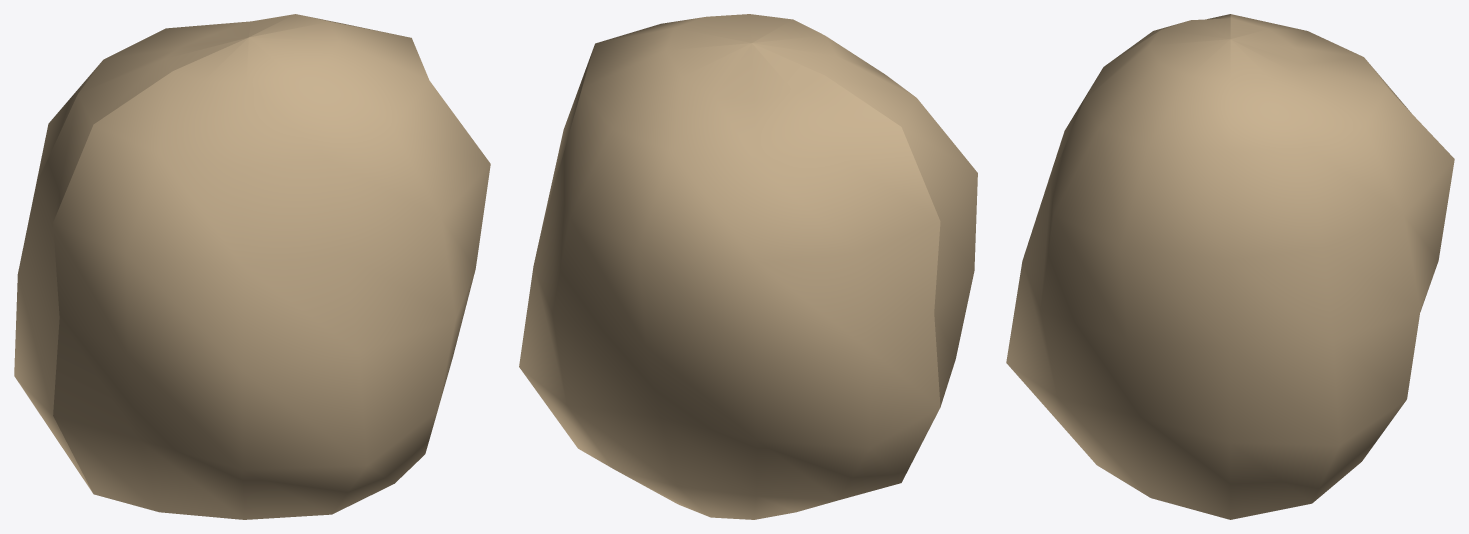
The model's file is right_lunate.glb.
3 views of the same model, side by side, from view 1: azimuth 30°, elevation 25°; view 2: azimuth 150°, elevation 25°; view 3: azimuth 270°, elevation 25° (orthographic). The views are drawn at different scales.
Visible parts, largest first — view 1: right_lunate:body; view 2: right_lunate:body; view 3: right_lunate:body.
Part boxes in pixels (x1,y1,x2,y2): right_lunate:body: [14, 14, 490, 519]; right_lunate:body: [519, 14, 977, 519]; right_lunate:body: [1006, 14, 1454, 519].
Size of the model in its own units: 0.0987 by 0.1128 by 0.1034.
